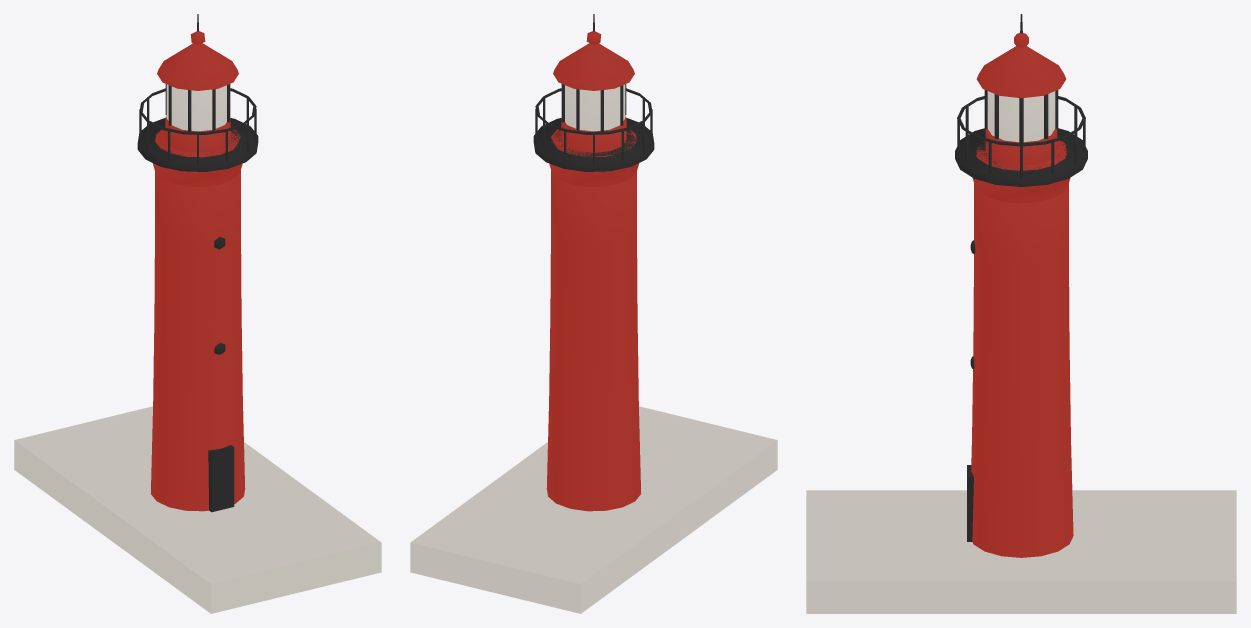
File: Blender_PierLight_1.glb
3 renders of one model, left to right at view 1: azimuth 30°, elevation 25°; view 2: azimuth 150°, elevation 25°; view 3: azimuth 270°, elevation 25°, orthographic. The views are drawn at different scales.
Visible parts, largest first — view 1: Blender_PierLight_1; view 2: Blender_PierLight_1; view 3: Blender_PierLight_1.
Boxes of the visible parts, left/top/right/bottom form: Blender_PierLight_1: left=14, top=14, right=381, bottom=613; Blender_PierLight_1: left=410, top=14, right=777, bottom=613; Blender_PierLight_1: left=806, top=14, right=1236, bottom=613.
Bounding box in the file's own units: 6 × 17.04 × 12.
